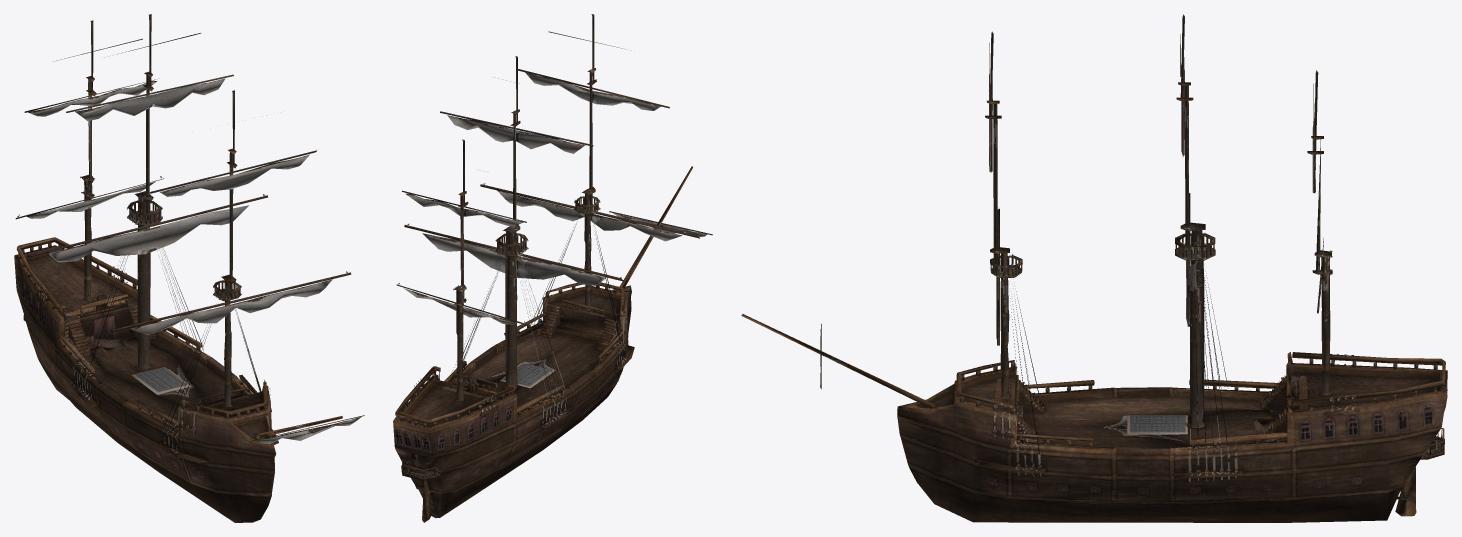
File: realistic-by.76880fe3d732.galleon.glb
3 views of the same model, side by side, from view 1: azimuth 30°, elevation 25°; view 2: azimuth 150°, elevation 25°; view 3: azimuth 270°, elevation 25° (orthographic). The views are drawn at different scales.
Visible parts, largest first — view 1: galleon; view 2: galleon; view 3: galleon.
Part boxes in pixels (x1,y1,x2,y2): galleon: [14, 14, 364, 522]; galleon: [393, 14, 712, 522]; galleon: [741, 14, 1447, 522].
Bounding box in the file's own units: 18 × 31.52 × 40.
1 material, 1 textured.
